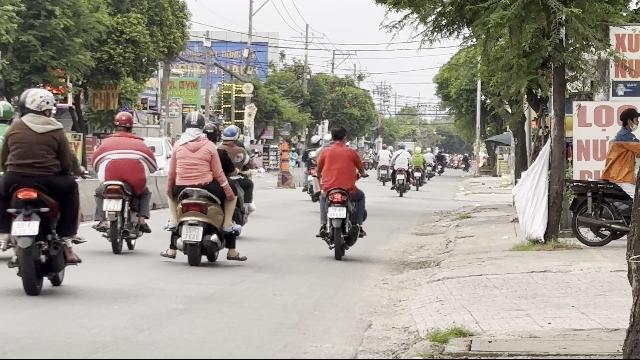helmet: (17, 87, 55, 119), (182, 111, 206, 137), (112, 110, 134, 132), (1, 100, 16, 122)
licenseplate: (12, 220, 38, 236), (182, 226, 202, 241), (102, 199, 121, 211), (328, 207, 346, 218)
motorcyclist: (0, 84, 86, 294), (161, 108, 247, 270), (88, 110, 156, 252), (312, 123, 368, 257)
nohelmet: (329, 124, 347, 144)
